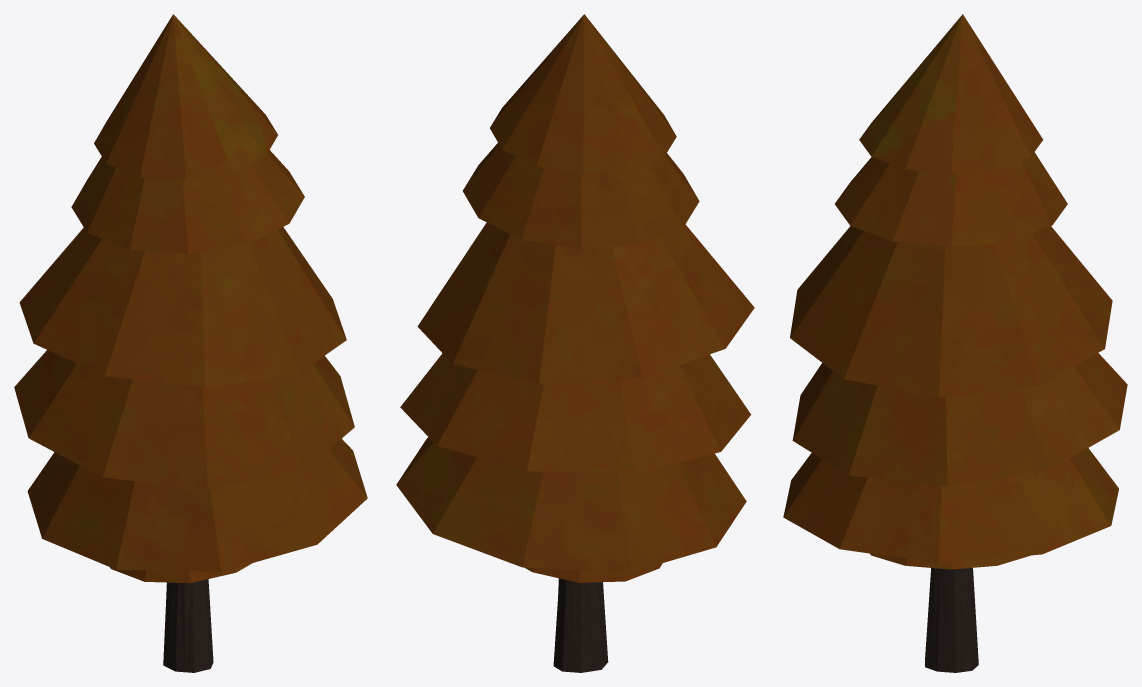
Rendered from tree-green-red-flowers_3.fbx.
The picture shows the model from 3 angles, left to right: view 1: azimuth 30°, elevation 25°; view 2: azimuth 150°, elevation 25°; view 3: azimuth 270°, elevation 25°; orthographic projection.
Parts seen in each view (by area): view 1: Cylinder.027; view 2: Cylinder.027; view 3: Cylinder.027.
Part boxes in pixels (x1=…): Cylinder.027: x1=14, y1=14, x2=367, y2=672; Cylinder.027: x1=396, y1=14, x2=754, y2=672; Cylinder.027: x1=783, y1=14, x2=1127, y2=672.
Size of the model in its own units: 139 by 279 by 135.
